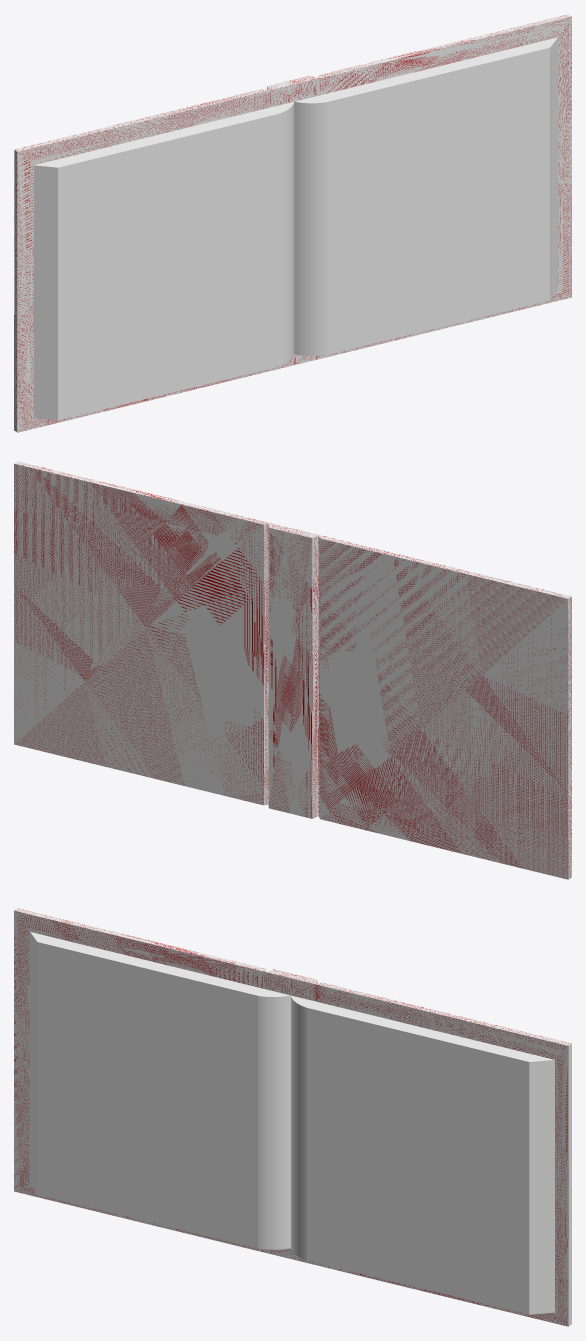
3 renders of one model, top to bottom at view 1: azimuth 30°, elevation 25°; view 2: azimuth 150°, elevation 25°; view 3: azimuth 330°, elevation 25°, orthographic.
Visible parts, largest first — view 1: open book; view 2: open book; view 3: open book.
Boxes of the visible parts, left/top/right/bottom form: open book: left=14, top=14, right=571, bottom=432; open book: left=14, top=461, right=571, bottom=879; open book: left=14, top=908, right=571, bottom=1326.
Bounding box in the file's own units: 11.62 × 5.62 × 0.5.
